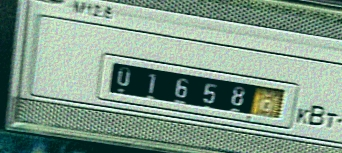0: (114, 65, 133, 88)
1: (143, 70, 160, 96)
5: (200, 80, 219, 106)
6: (171, 75, 193, 102)
8: (228, 84, 248, 108)
9: (256, 96, 274, 119)
screen: (92, 49, 304, 135)
